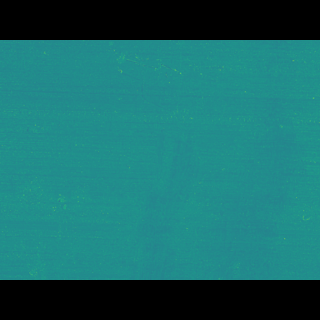Loch: (115, 125, 320, 249), (98, 69, 199, 127)
